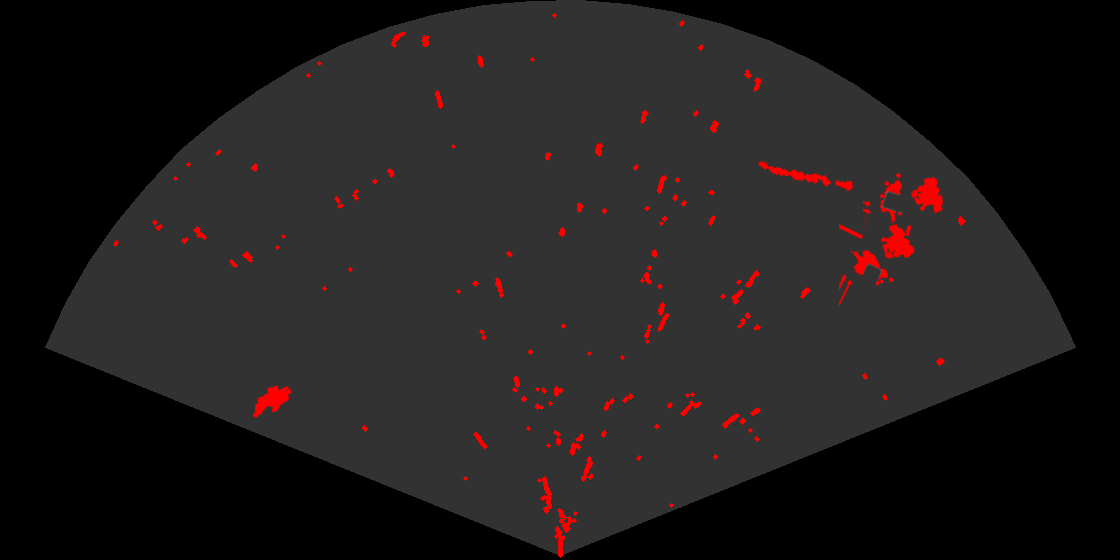AUV: (251, 384, 293, 419)
cage: (839, 223, 916, 307), (863, 171, 945, 236)
chain: (756, 160, 856, 193)
